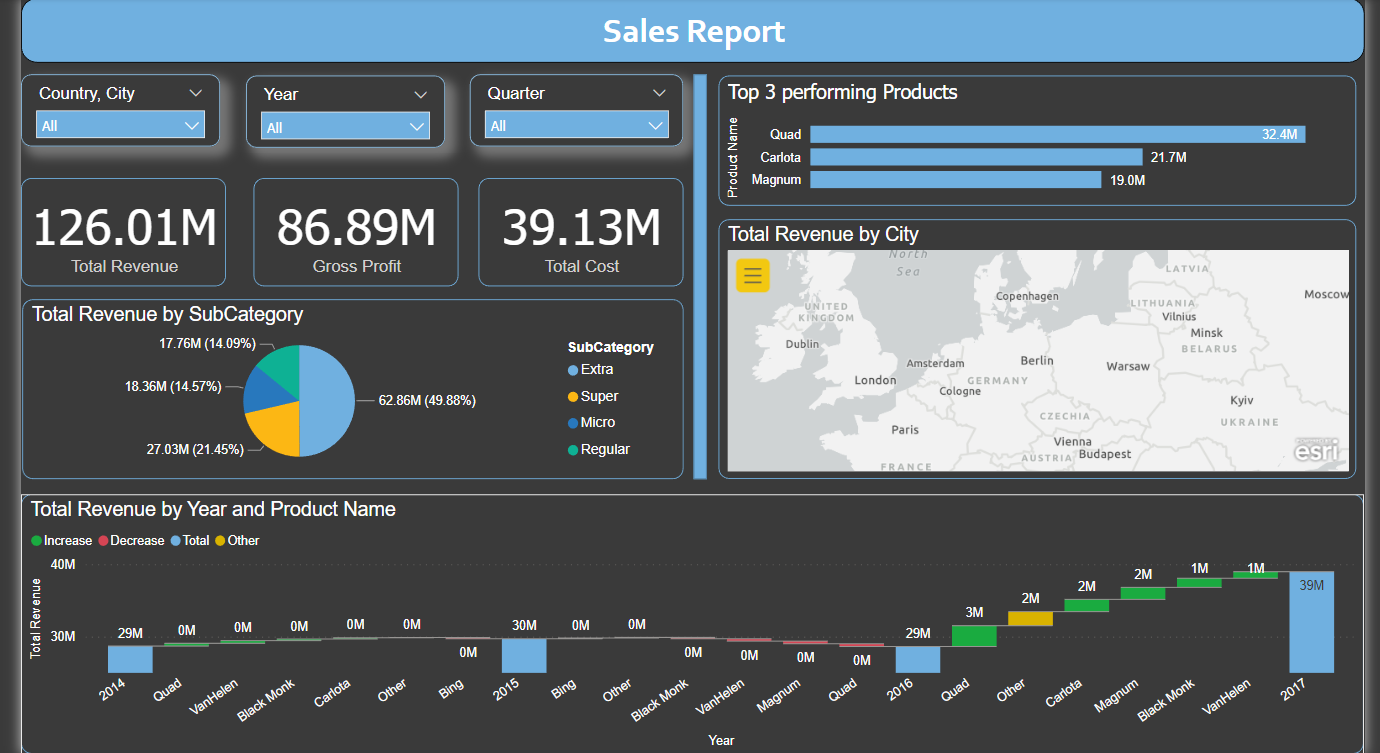

The dashboard page shown, as its layout file describes it:
{"tool":"powerbi","page":{"name":"Page 1","canvas":[1280,720],"ordinal":0},"visuals":[{"type":"textbox","box":[0,0,1279.3,61.9],"z":0},{"type":"slicer","fields":{"Values":["Geography.Country","Geography.City"]},"box":[0,72.6,189.2,69],"z":1000},{"type":"slicer","fields":{"Values":["Date.Year"]},"box":[214.2,73.3,189.2,69],"z":2000},{"type":"slicer","fields":{"Values":["Date.Quarter"]},"box":[427.2,72.6,203.5,69],"z":3000},{"type":"card","fields":{"Values":["Measures (3).Total Revenue"]},"box":[0,171.8,195.2,103.5],"z":4000},{"type":"card","fields":{"Values":["Measures (3).Total Cost"]},"box":[435.6,171.8,195.2,103.5],"z":5000},{"type":"card","fields":{"Values":["Measures (3).Gross Profit"]},"box":[221.4,171.8,195.2,103.5],"z":6000},{"type":"pieChart","fields":{"Y":["Measures (3).Total Revenue"],"Category":["SubCategory.SubCategory Name"]},"box":[1.2,286.8,629.6,171.4],"z":7000},{"type":"waterfallChart","title":"Total Revenue by Year and Product Name","fields":{"Y":["Measures (3).Total Revenue"],"Breakdown":["Product.ProductName"],"Category":["Date.Year"]},"box":[0,472.9,1278.8,247.6],"z":8000},{"type":"clusteredBarChart","title":"Top 3 performing Products","fields":{"Category":["Product.ProductName"],"Y":["Measures (3).Top 3 performing Products per year"]},"box":[664.1,73.8,606.9,123.8],"z":9000},{"type":"shape","box":[640.3,72.6,13.1,385.6],"z":10000},{"type":"esriVisual","fields":{"Size":["Measures (3).Total Revenue"],"Location":["Geography.City"]},"box":[664.1,210.6,606.9,247.5],"z":11000}]}

Visuals, with their boxes on the page's 1280x720 design canvas (x1, y1, x2, y2). These are canvas units, not pixel positions in the 1380x753 screenshot, which may show the page scaled, cropped or inside an application window:
textbox: bbox(0, 0, 1279, 62)
slicer - Geography.Country x Geography.City: bbox(0, 73, 189, 142)
slicer - Date.Year: bbox(214, 73, 403, 142)
slicer - Date.Quarter: bbox(427, 73, 631, 142)
card - Measures (3).Total Revenue: bbox(0, 172, 195, 275)
card - Measures (3).Total Cost: bbox(436, 172, 631, 275)
card - Measures (3).Gross Profit: bbox(221, 172, 417, 275)
pieChart - Measures (3).Total Revenue x SubCategory.SubCategory Name: bbox(1, 287, 631, 458)
"Total Revenue by Year and Product Name" waterfallChart: bbox(0, 473, 1279, 720)
"Top 3 performing Products" clusteredBarChart: bbox(664, 74, 1271, 198)
shape: bbox(640, 73, 653, 458)
esriVisual - Measures (3).Total Revenue x Geography.City: bbox(664, 211, 1271, 458)
